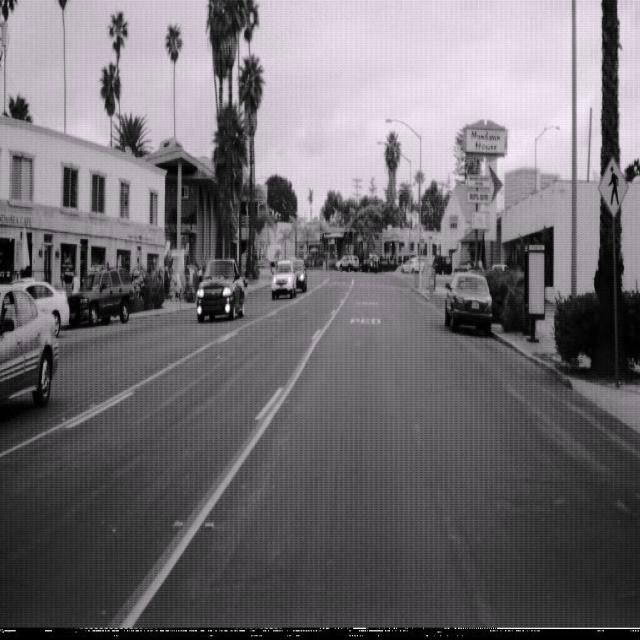pedestrianCrossing: (598, 154, 630, 218)
